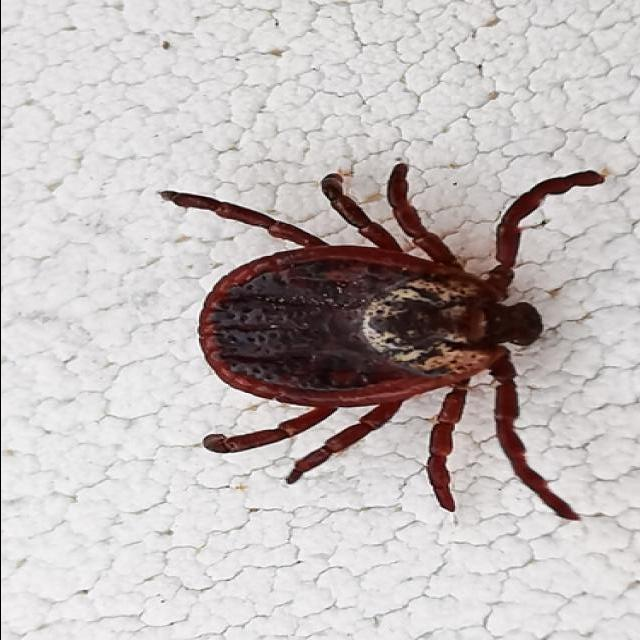Dermacentor Reticulatus-F: (162, 161, 608, 521)
